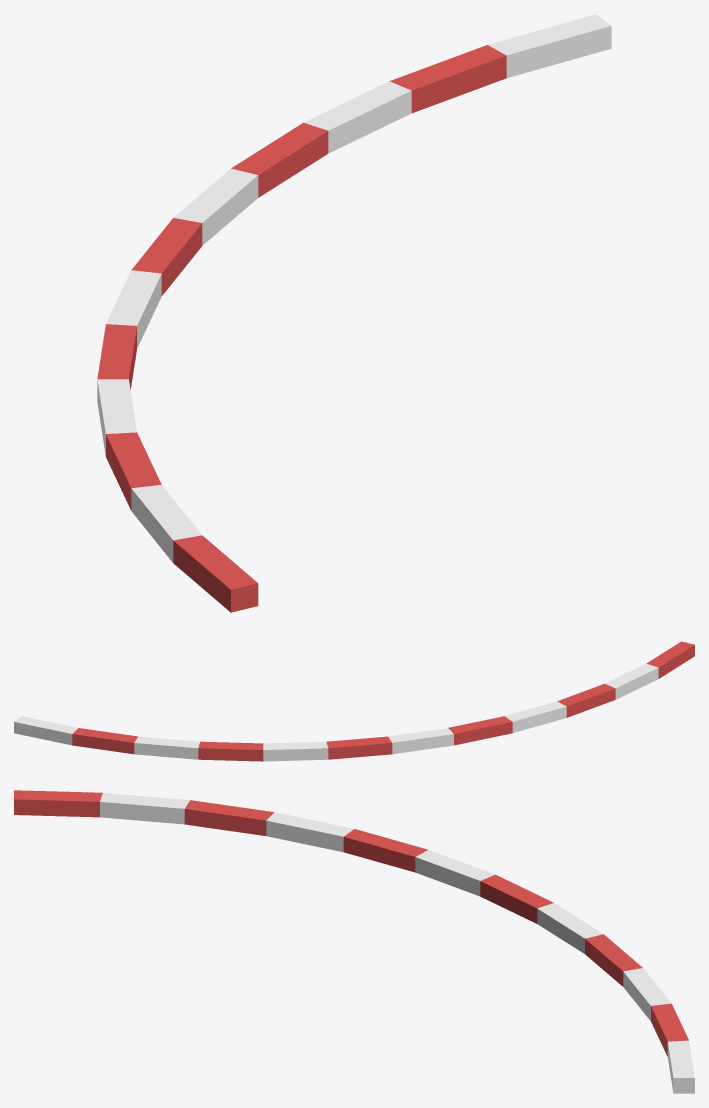
Rendered from roadCornerSmallWall.glb.
3 views of the same model, one above another, from view 1: azimuth 30°, elevation 25°; view 2: azimuth 150°, elevation 25°; view 3: azimuth 270°, elevation 25° (orthographic). The views are drawn at different scales.
Visible parts, largest first — view 1: roadCornerSmallWall(Clone); view 2: roadCornerSmallWall(Clone); view 3: roadCornerSmallWall(Clone).
Part boxes in pixels (bbox=[...]): roadCornerSmallWall(Clone): bbox=[97, 14, 611, 612]; roadCornerSmallWall(Clone): bbox=[14, 641, 694, 761]; roadCornerSmallWall(Clone): bbox=[14, 790, 694, 1093].
Bounding box in the file's own units: 1.58 × 0.04 × 1.58.
